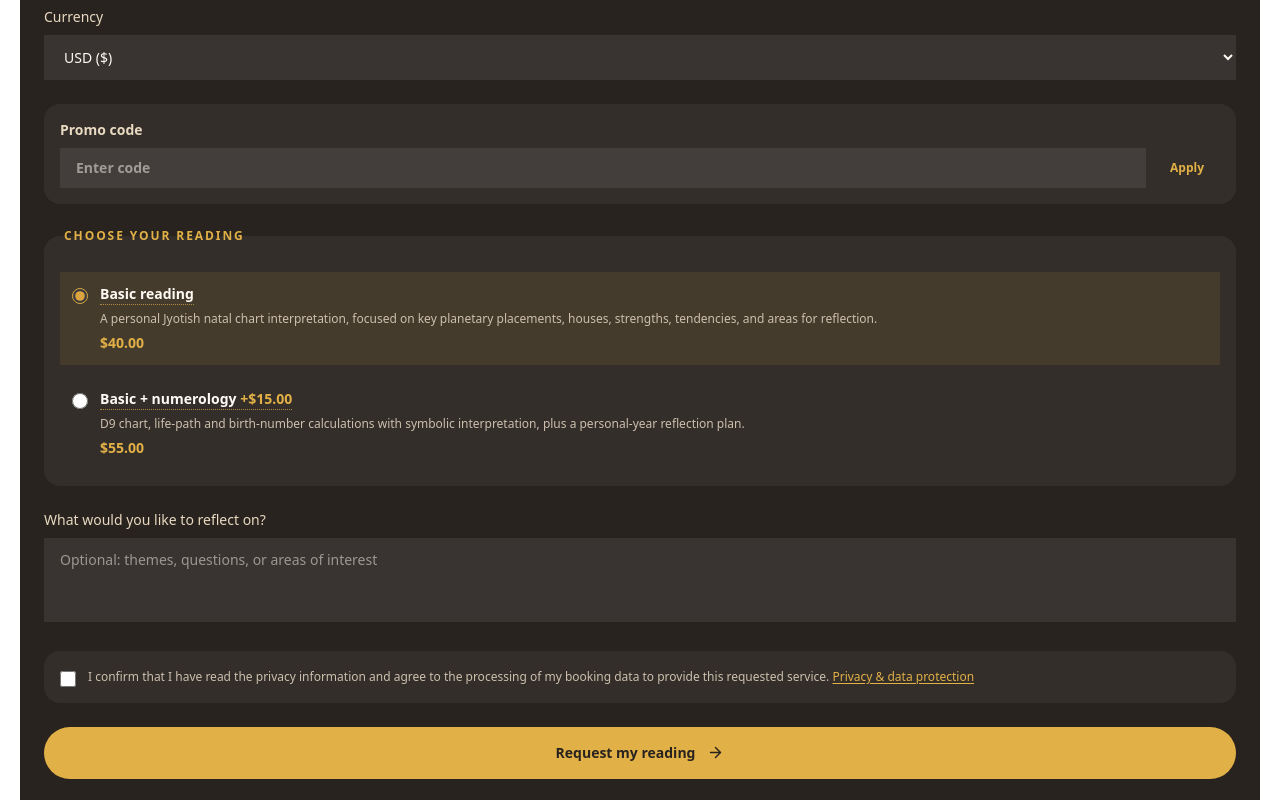
Test: Home booking payment UX › renders the current configured prices from the public pricing query
(page scrolled)
Click the radio button labelled "Basic + numerology" at point(80, 401), box [72,393,88,409]
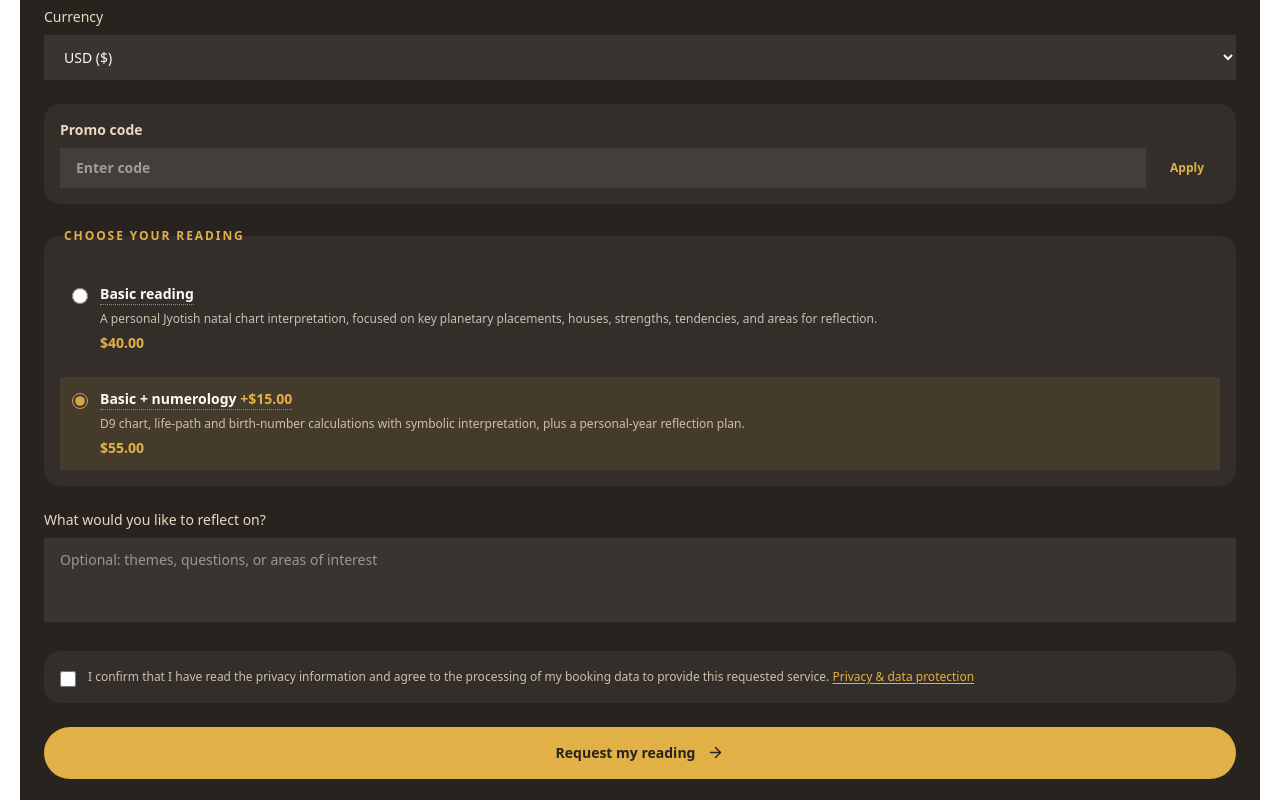
Select "EUR (€)" in the dropdown labelled "Currency" at point(640, 58), box [44,35,1236,80]
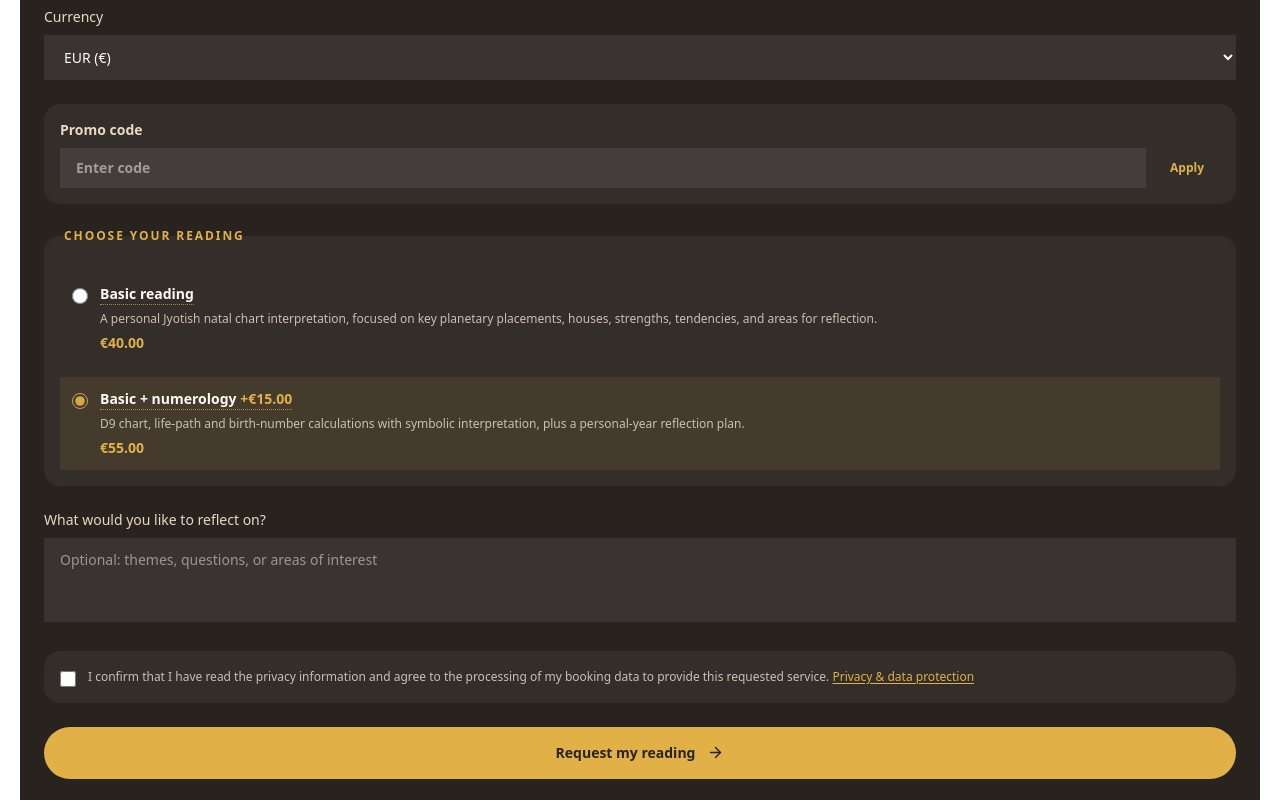
Select "GBP (£)" in the dropdown labelled "Currency" at point(640, 58), box [44,35,1236,80]
(page scrolled)
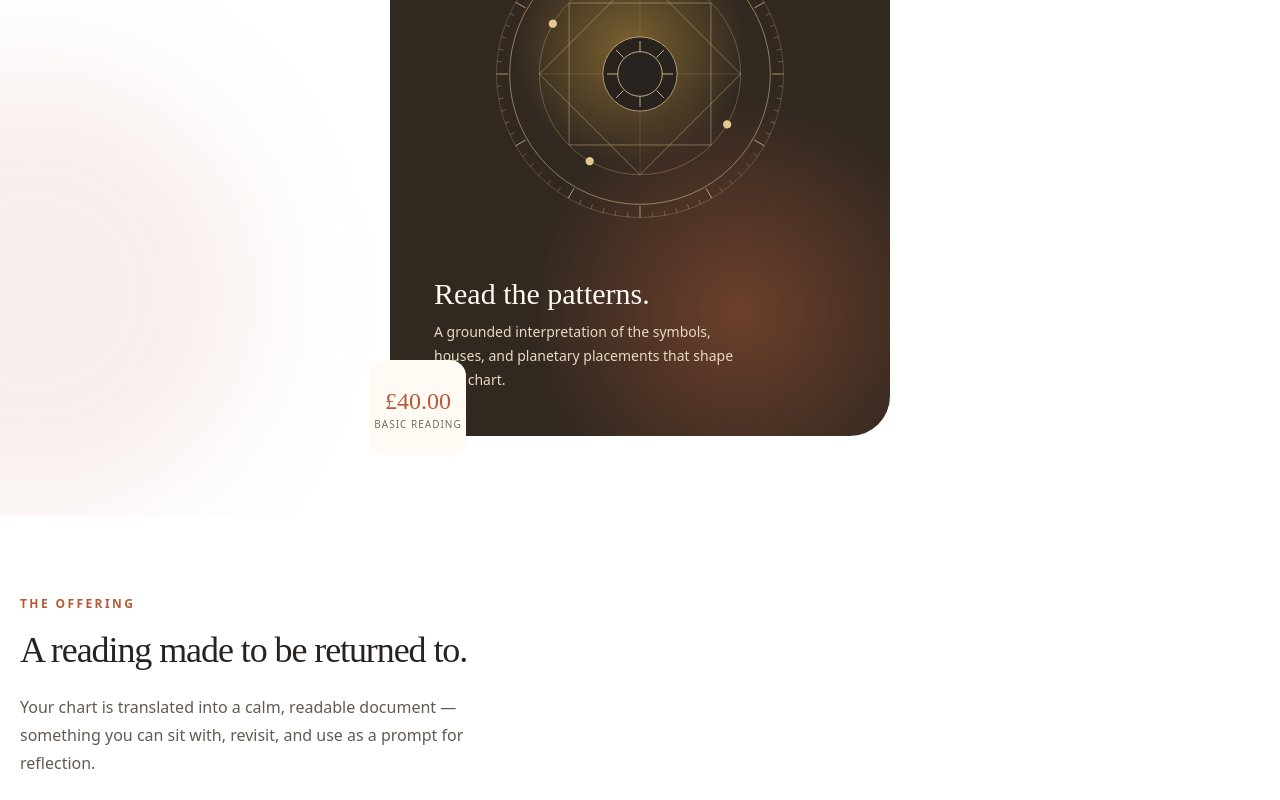
Now the text "£40.00" is shown, box [385,388,451,414]
